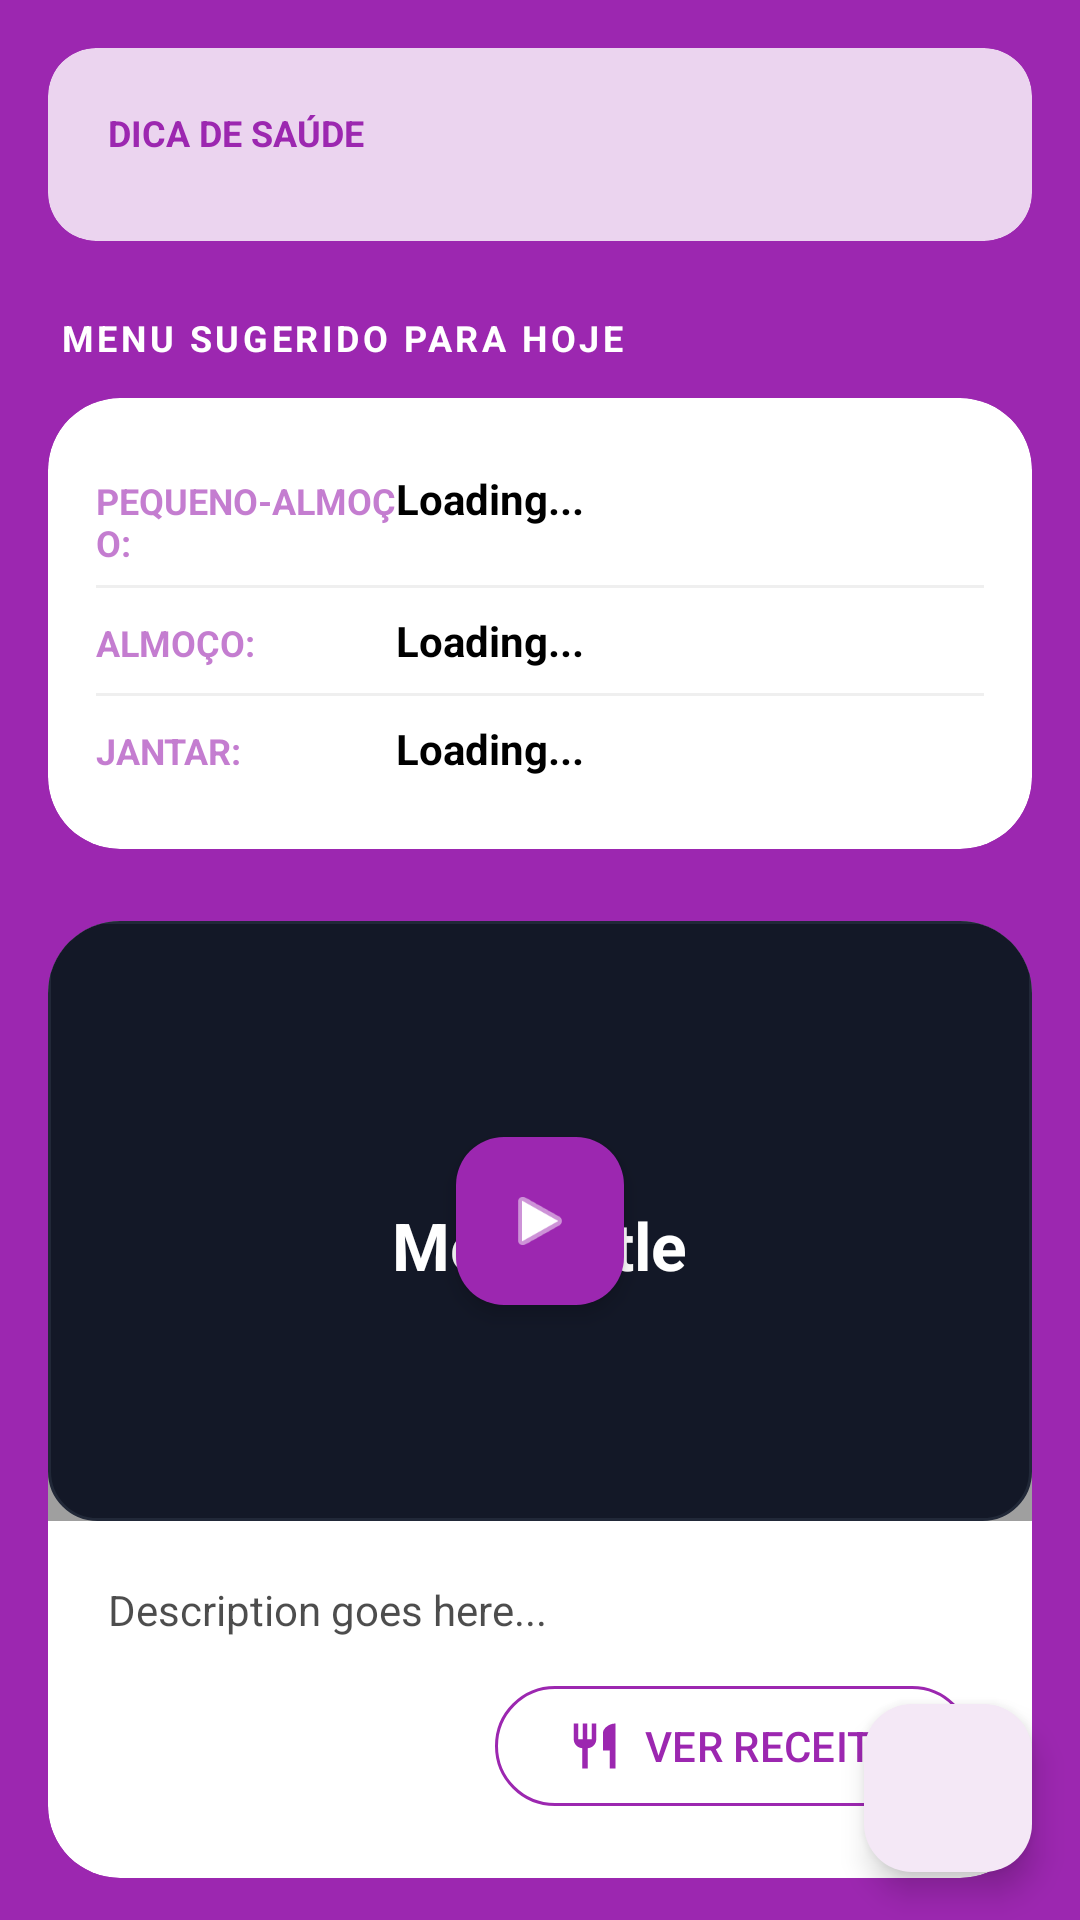

Where icons sit on this 1080 x 1920 app screen, as (x1, y1, x2, y2):
play: (456, 1137, 624, 1305)
